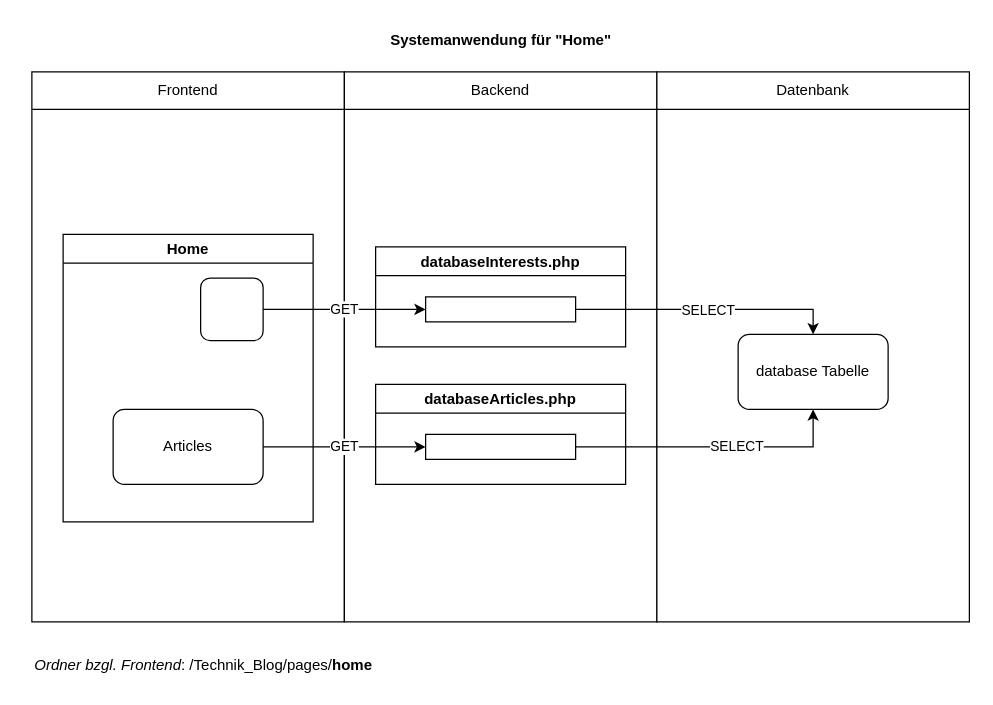
Image size: 993x705. Some labels were removed from this diagram. Here are the shapes that lost their labels. From the top down, the centre of each, then its label:
At [231,309]: "Tags".
At [500,309]: "Get all content".
At [500,446]: "Get 7 articles".
